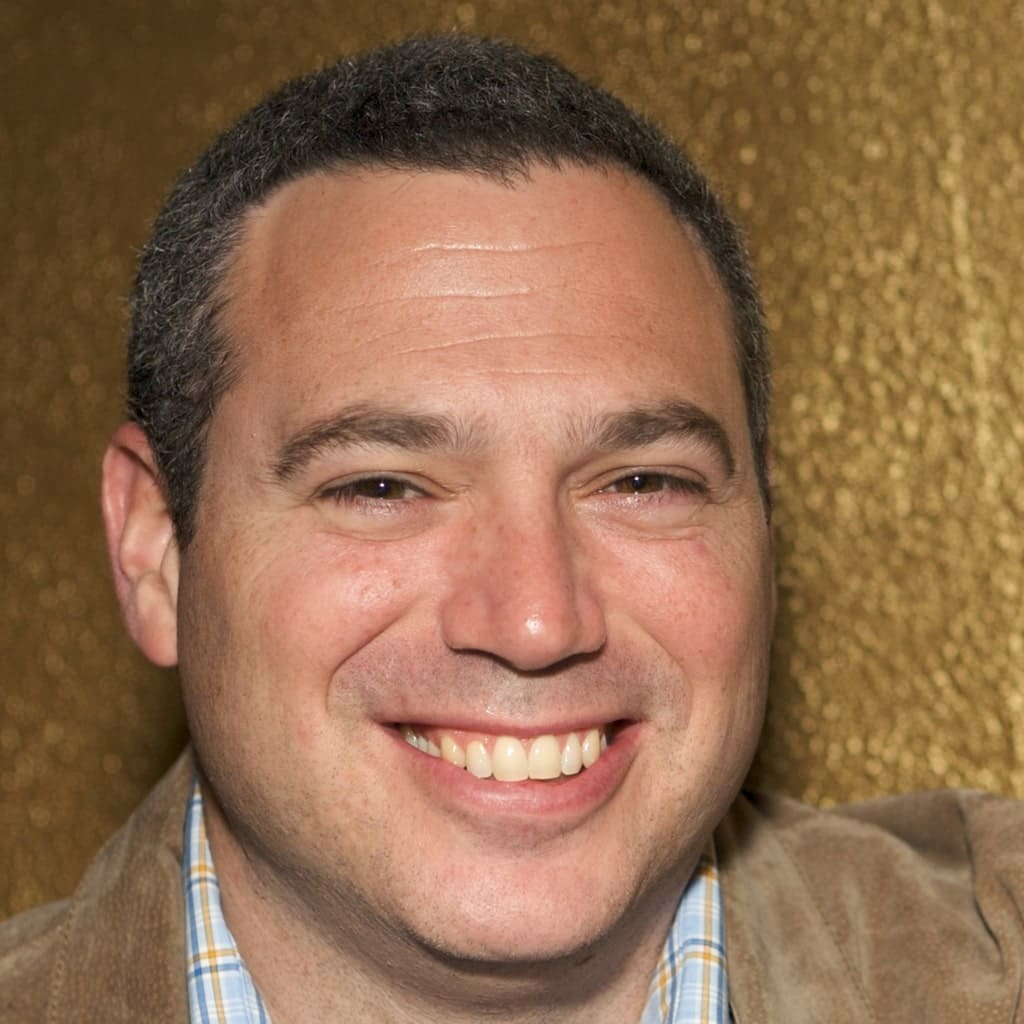without_mask: (228, 226, 745, 898)
